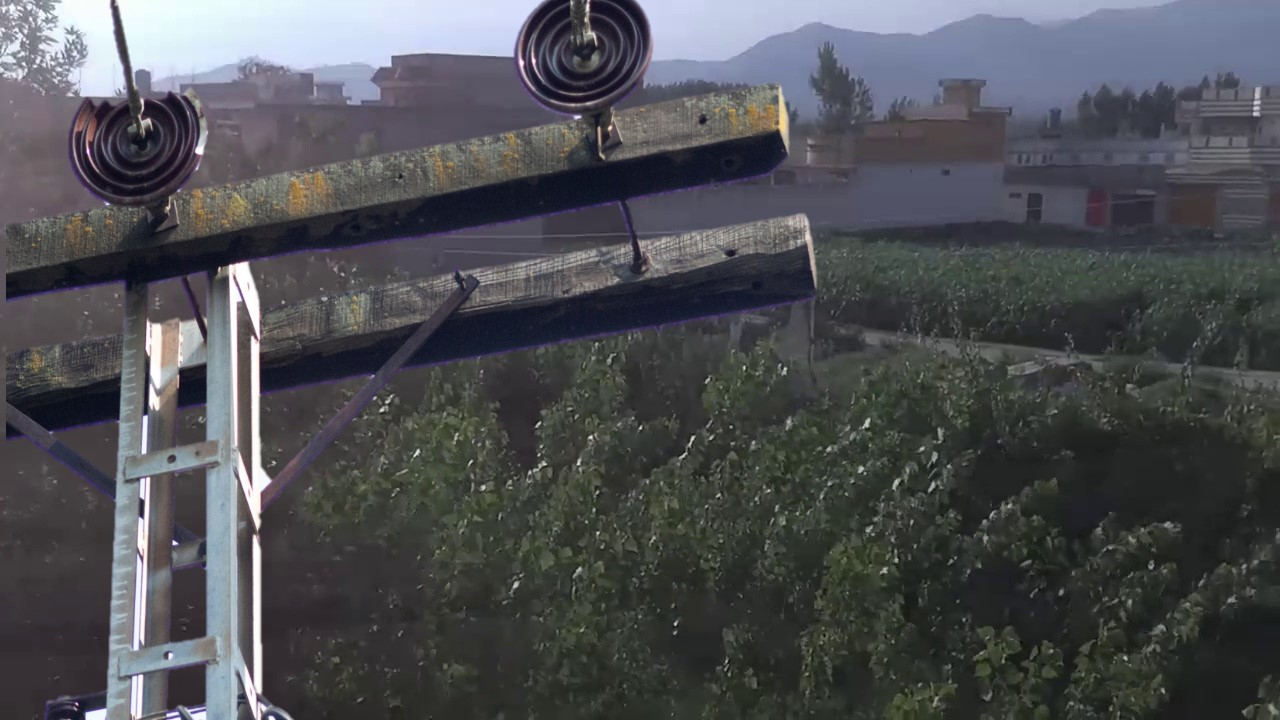defect_disc: (64, 84, 213, 209)
insulator_disc: (512, 5, 667, 111)
